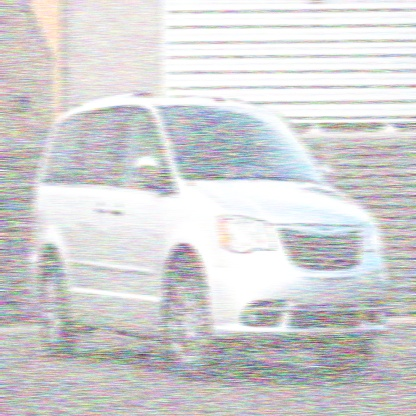Vehicle: (27, 86, 392, 384)
